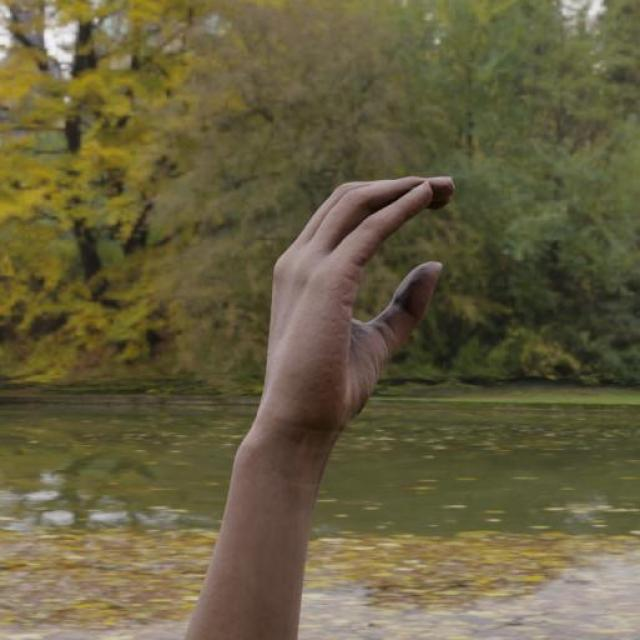C: (239, 174, 458, 457)
